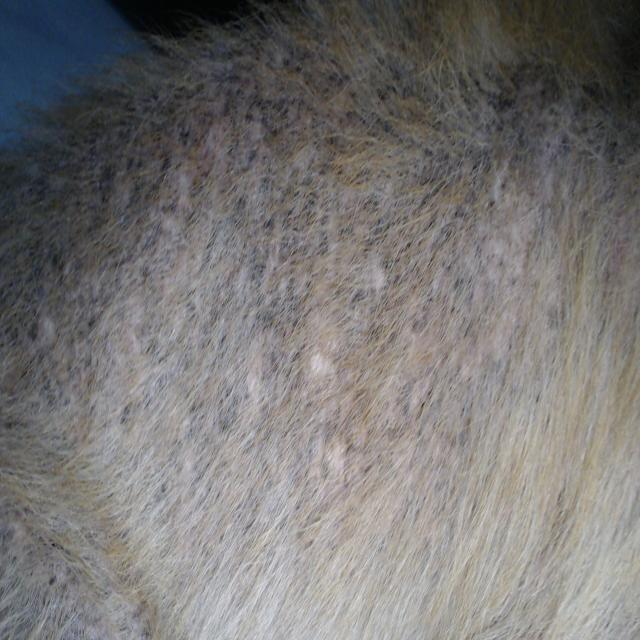demodicosis: (36, 72, 401, 497), (446, 97, 589, 406)
